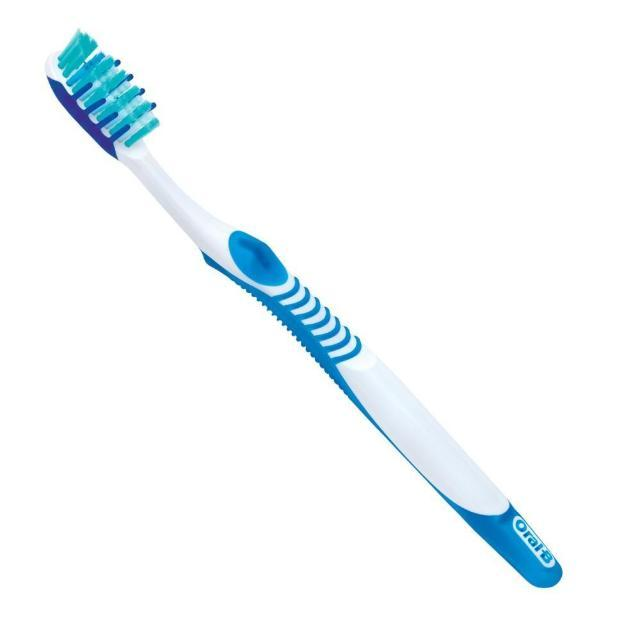toothbrush: (26, 0, 606, 606)
